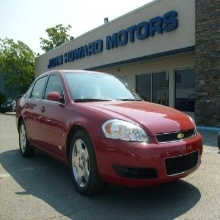no damage: (14, 69, 203, 196)
